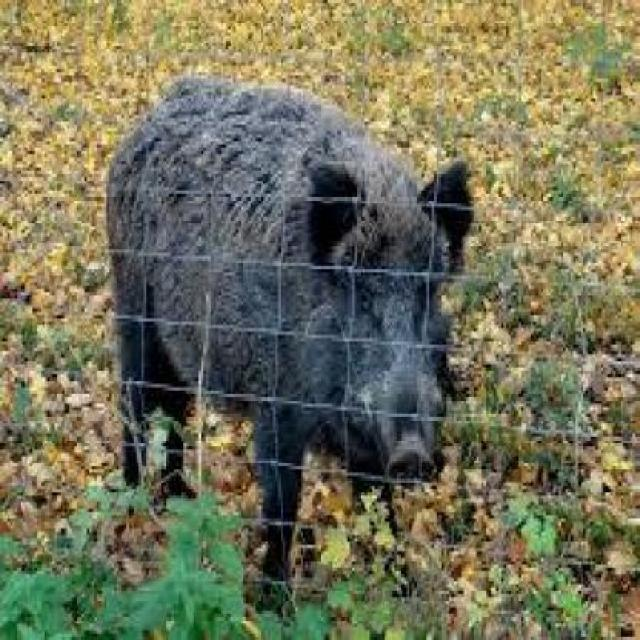Wild Boar: (100, 68, 477, 603)
